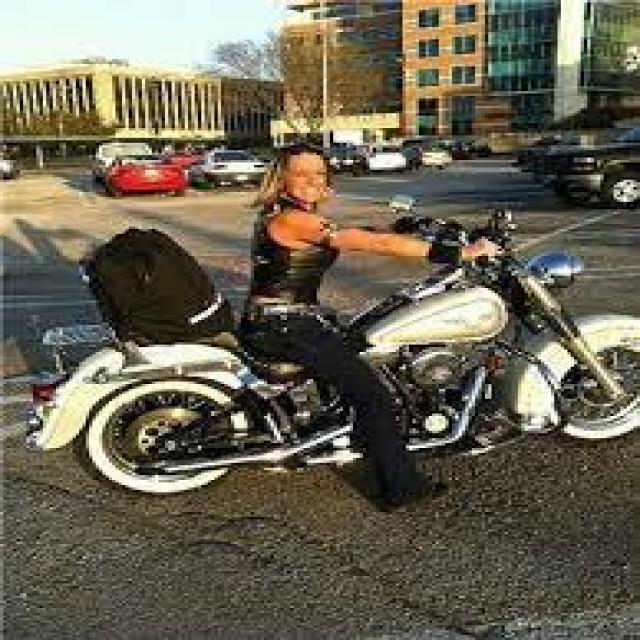Not Wearing Helmet: (200, 122, 372, 260)
